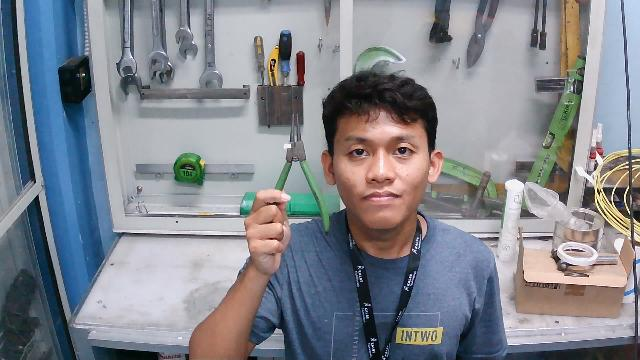tang_cucut_lancip_2: (267, 109, 334, 240)
